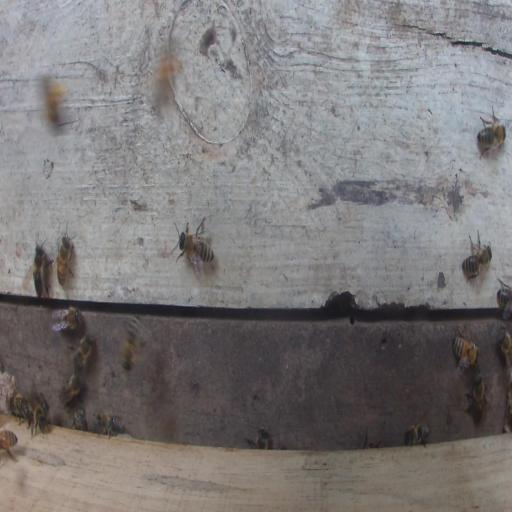Insects: (462, 230, 492, 292), (25, 241, 53, 298), (477, 104, 506, 159), (122, 316, 146, 373), (55, 221, 74, 289), (152, 51, 183, 88), (452, 326, 479, 368), (178, 231, 214, 261), (466, 372, 486, 425), (73, 333, 97, 372), (93, 411, 126, 439), (51, 306, 83, 332), (9, 391, 32, 426), (61, 371, 82, 407), (496, 277, 512, 321), (403, 422, 430, 446), (244, 426, 271, 450), (498, 326, 511, 369), (0, 429, 18, 457), (32, 400, 46, 433), (73, 406, 87, 431)
